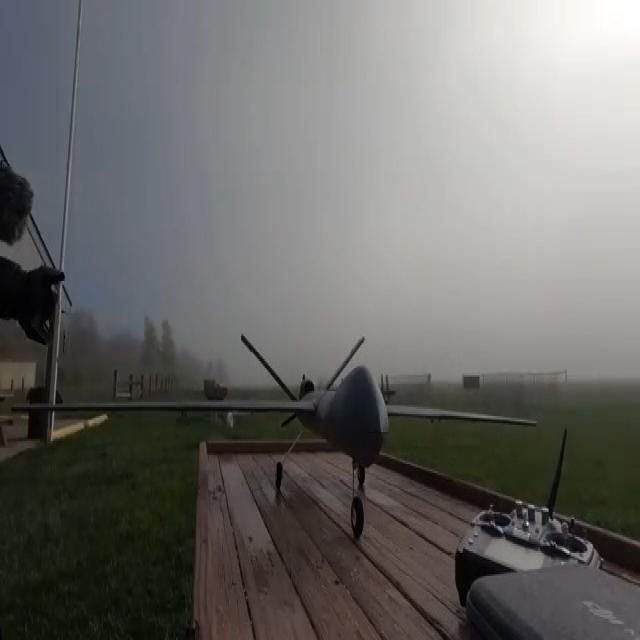iha: (18, 334, 535, 537)
